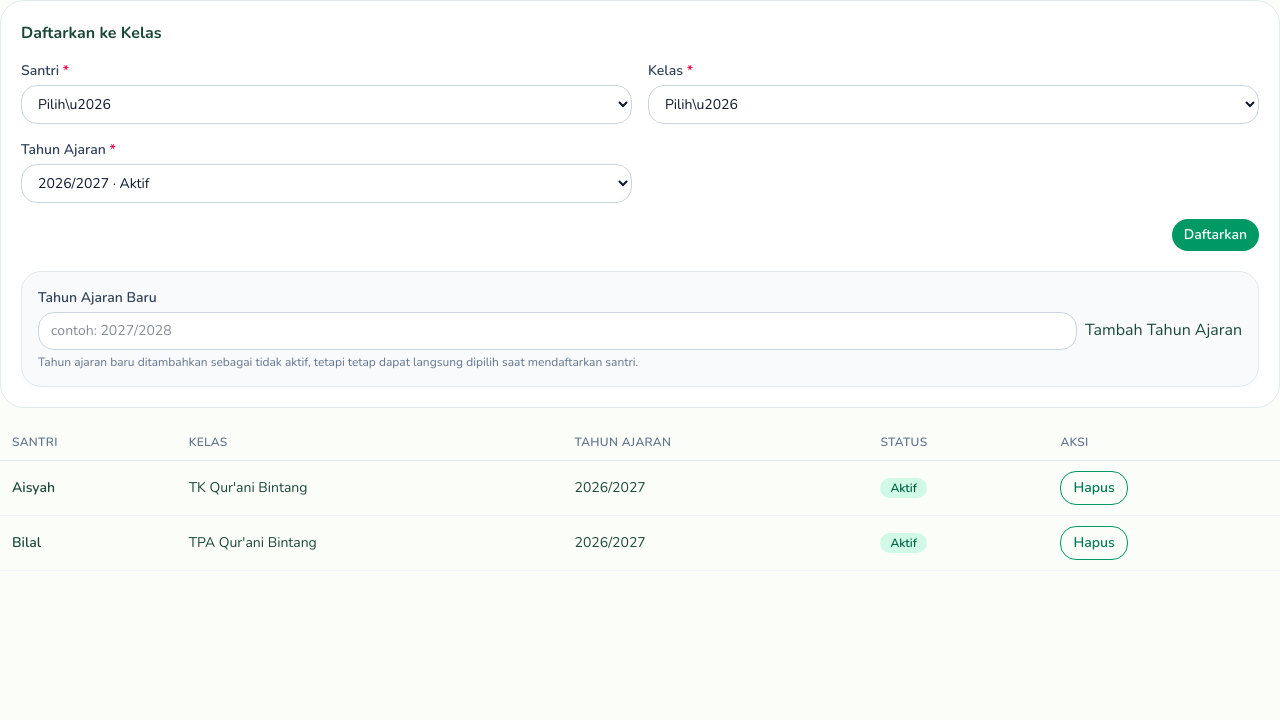
Scenario: EnrollmentsScreen › deletes an enrollment via DELETE /admin/enrollments/:id after confirmation and the row disappears
The width and height of the screenshot is (1280, 720).
Expected: the text "Aisyah" is shown, [0, 460, 177, 516]
Click the button "Hapus" in the row of "Aisyah". click: click(1094, 488)
box: [1060, 471, 1128, 505]
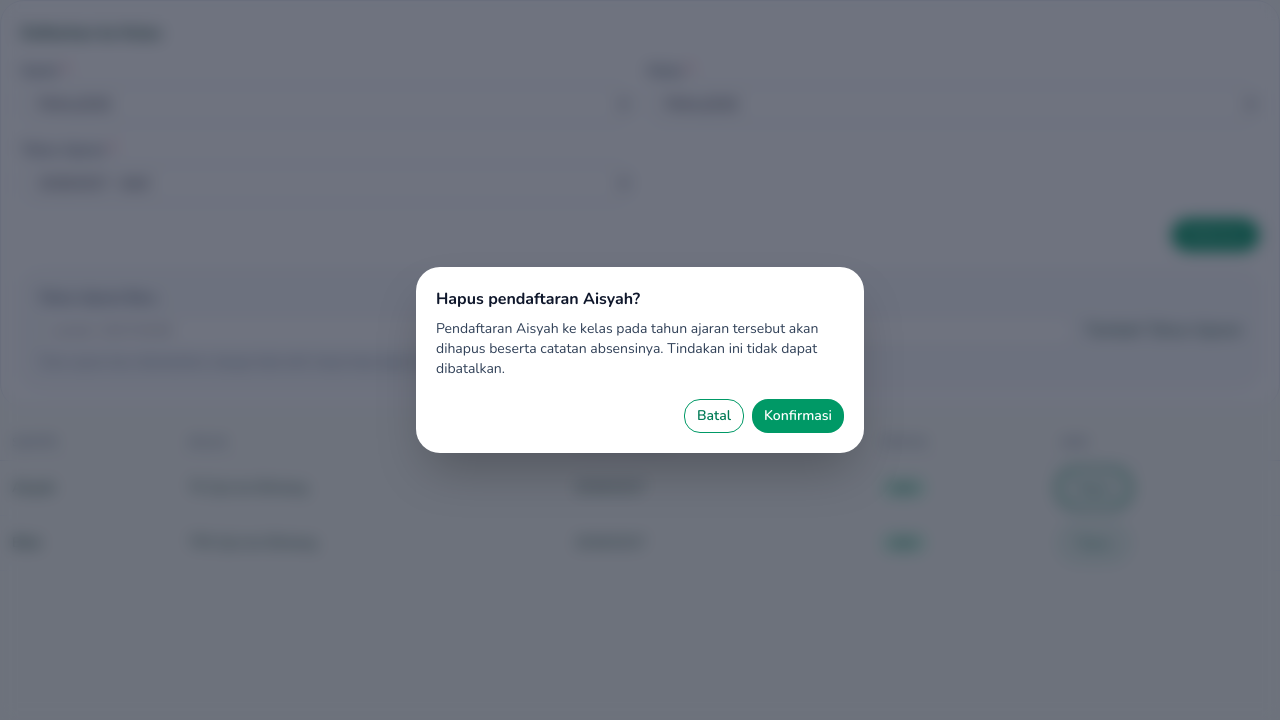
Expected: the heading "Hapus pendaftaran Aisyah?" is shown, [436, 288, 640, 310]
Click the button "Konfirmasi". click: click(798, 416)
box: [752, 399, 844, 433]
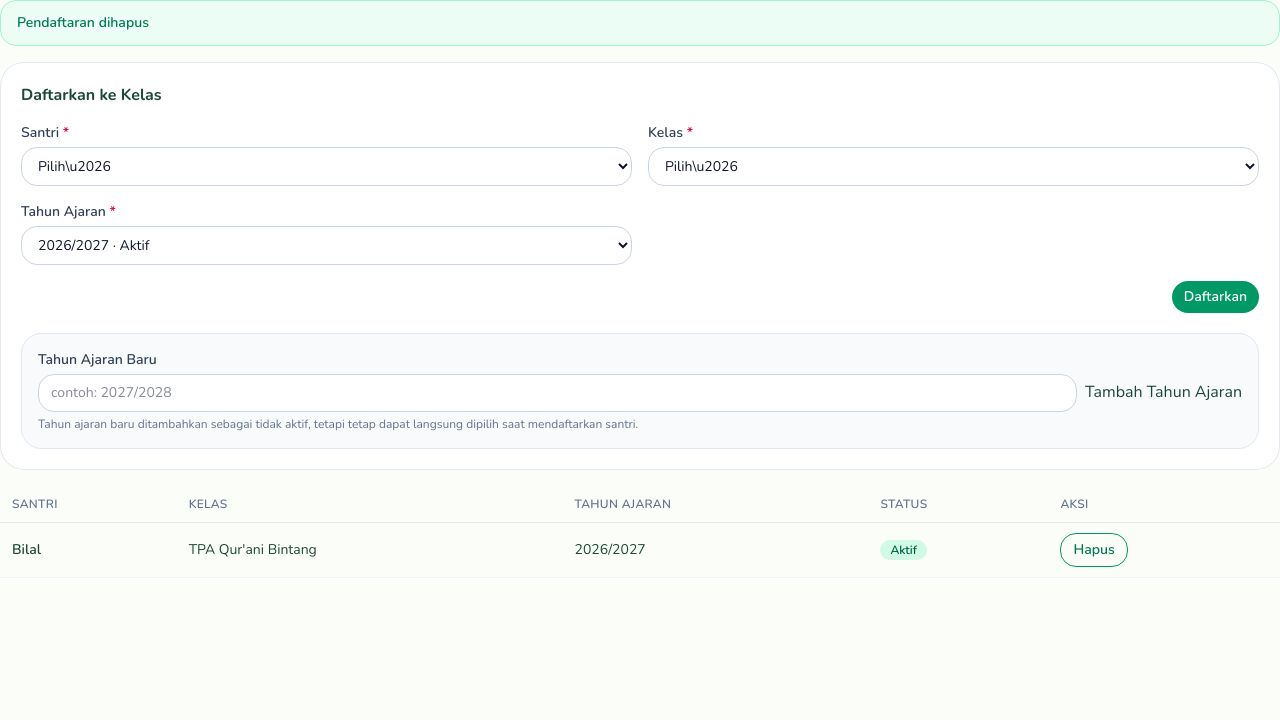
Expected: the text "Bilal" is shown, [0, 522, 177, 578]
Expected: the text "Aisyah" is gone
